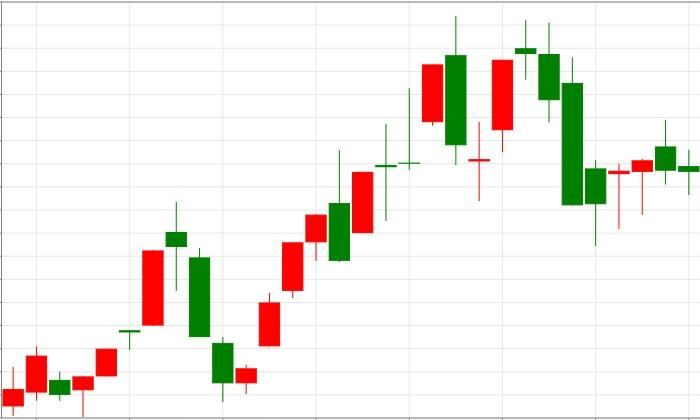bearish_engulfing_fall: (235, 16, 466, 394)
evening_star_fall: (49, 201, 210, 418)
